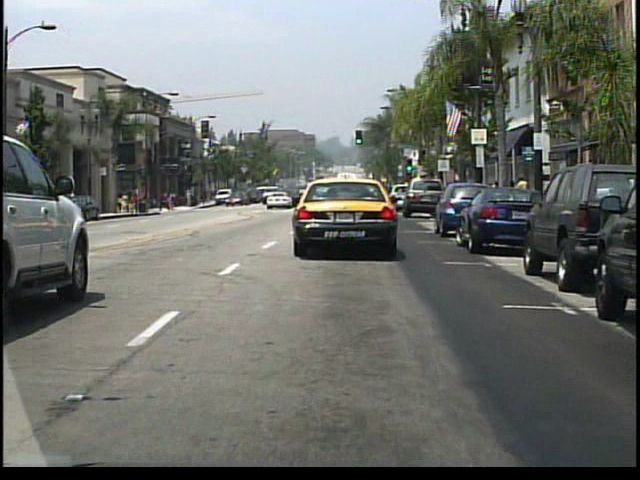person: (514, 173, 530, 214), (156, 190, 164, 212)
